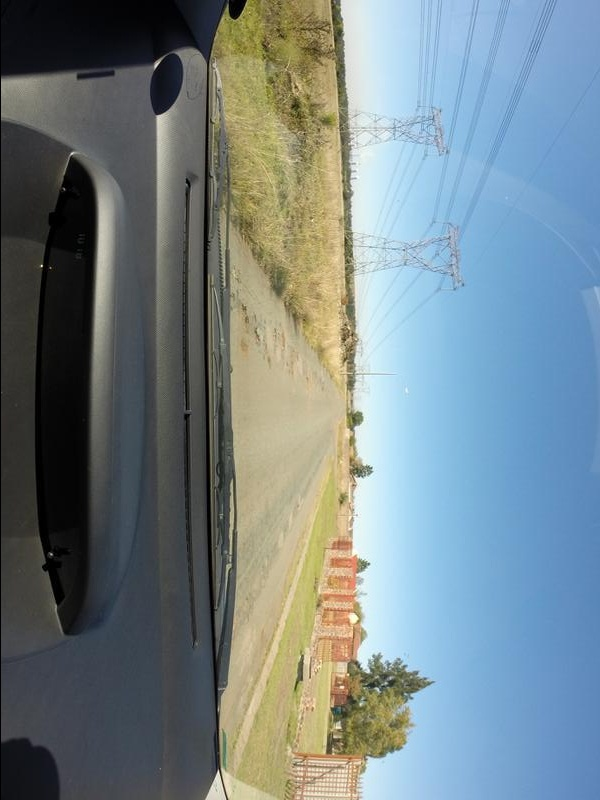pothole: (236, 306, 249, 332), (264, 347, 272, 373), (288, 360, 296, 375), (280, 333, 285, 355), (239, 342, 250, 351), (253, 327, 258, 346), (233, 273, 243, 282), (254, 315, 259, 329)
